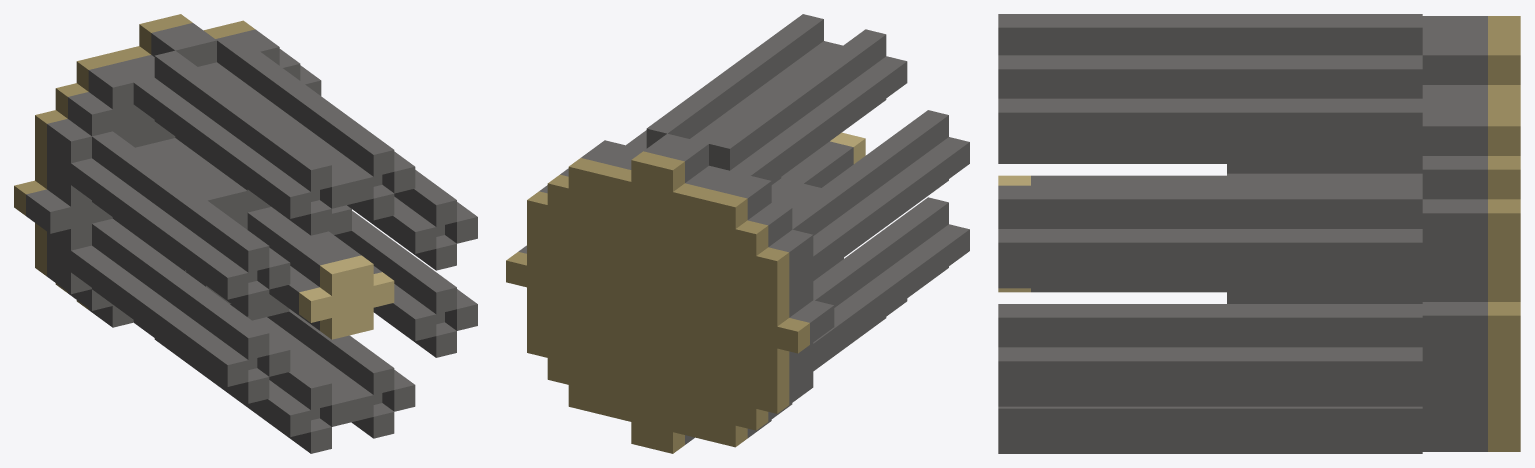
File: drum.glb
3 views of the same model, side by side, from view 1: azimuth 30°, elevation 25°; view 2: azimuth 150°, elevation 25°; view 3: azimuth 270°, elevation 25° (orthographic). The views are drawn at different scales.
Bounding box in the file's own units: 14 × 13 × 16.
